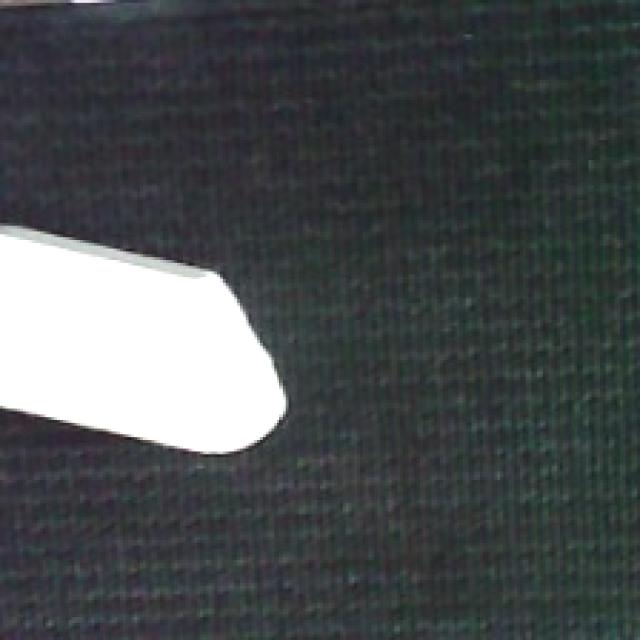defected: (0, 221, 295, 466)
